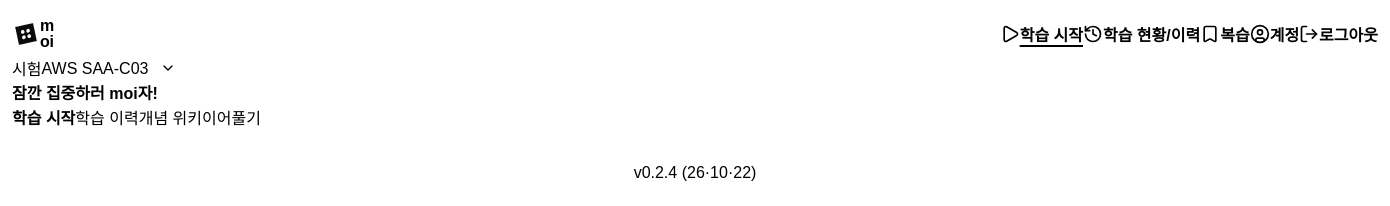
Test case: 내비게이션 로그아웃 액션 (#234/ADR-0072) › 로그아웃 실패: role=alert 안내와 재시도 버튼이 같은 위치에 보인다
Click the button "로그아웃": (1339, 34) left=1299, top=21, right=1378, bottom=47
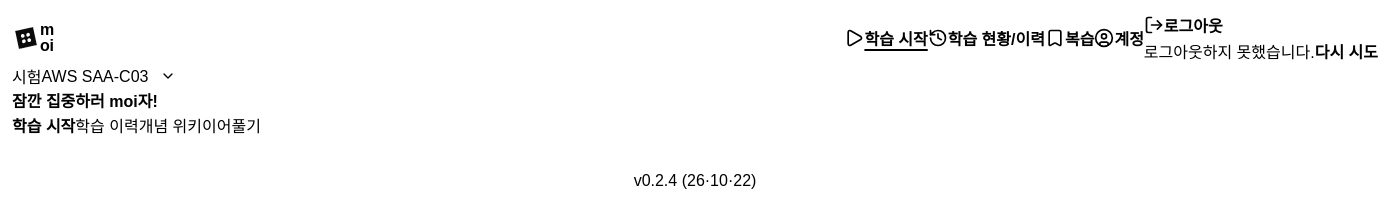
Expected: the message shows "로그아웃하지 못했습니다.", left=1144, top=44, right=1315, bottom=61
Expected: the button "다시 시도" is shown, left=1315, top=38, right=1378, bottom=64
